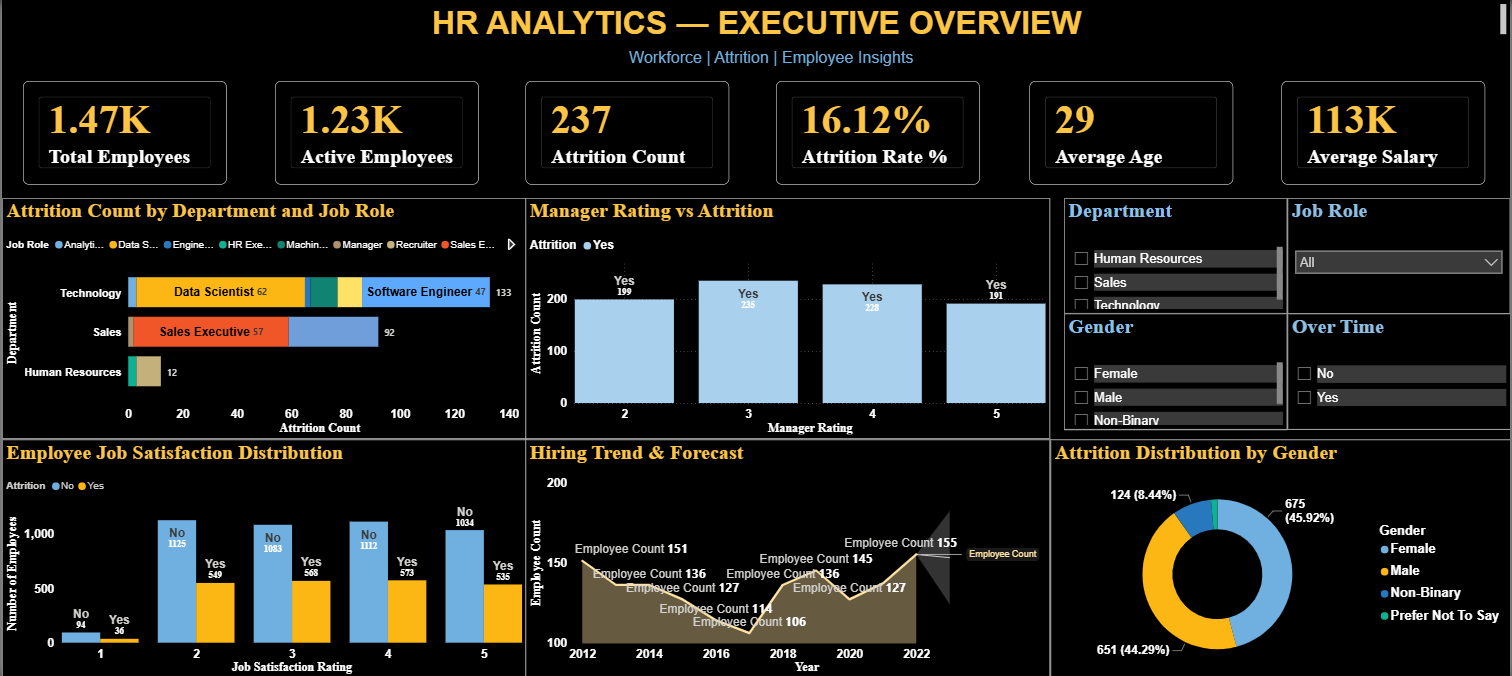

The dashboard page shown, as its layout file describes it:
{"tool":"powerbi","page":{"name":"HR Executive Overview","canvas":[2000,900],"ordinal":0},"visuals":[{"type":"textbox","box":[0,0,1999.2,54.4],"z":0},{"type":"textbox","box":[0,54.4,1999.2,52.1],"z":1000},{"type":"cardVisual","fields":{"Data":["DimDate.Total Employees"]},"box":[28.2,106.9,270,137.2],"z":2000},{"type":"cardVisual","fields":{"Data":["Employee.Active Employees"]},"box":[361.1,106.9,270,137.2],"z":3000},{"type":"cardVisual","fields":{"Data":["Employee.Attrition Count"]},"box":[694,106.9,270,137.2],"z":4000},{"type":"cardVisual","fields":{"Data":["Employee.Attrition Rate %"]},"box":[1026.9,106.9,270,137.2],"z":5000},{"type":"cardVisual","fields":{"Data":["Employee.Average Age"]},"box":[1361.8,106.9,270,137.2],"z":6000},{"type":"cardVisual","fields":{"Data":["Employee.Average Salary"]},"box":[1696.7,106.9,270,137.2],"z":7000},{"type":"barChart","fields":{"Category":["Employee.Department"],"Y":["Employee.Attrition Count"],"Series":["Employee.Job Role"]},"box":[0,262.6,695.6,319.4],"z":8000},{"type":"clusteredColumnChart","title":"Employee Job Satisfaction Distribution","fields":{"Series":["Employee.Attrition"],"Y":["CountNonNull(PerformanceRating.EmployeeID)"],"Category":["PerformanceRating.JobSatisfaction"]},"box":[0,582,695.6,317],"z":9000},{"type":"clusteredColumnChart","title":"Manager Rating vs Attrition","fields":{"Category":["PerformanceRating.ManagerRating"],"Y":["Employee.Attrition by Manager Rating"],"Series":["Employee.Attrition"]},"box":[693.2,262.6,695.6,319.4],"z":10000},{"type":"lineChart","title":"Hiring Trend & Forecast","fields":{"Category":["Employee.Hire Date.Variation.Date Hierarchy.Year","Employee.Hire Date.Variation.Date Hierarchy.Month"],"Y":["Employee.Employee Count"]},"box":[693.2,582,695,317],"z":11000},{"type":"donutChart","title":"Attrition Distribution by Gender","fields":{"Category":["Employee.Gender"],"Y":["CountNonNull(Employee.EmployeeID)"]},"box":[1388.8,582,610.4,317],"z":12000},{"type":"slicer","title":"Department","fields":{"Values":["Employee.Department"]},"box":[1407.7,262.6,295.7,153],"z":13000},{"type":"slicer","title":"Job Role","fields":{"Values":["Employee.Job Role"]},"box":[1703.5,262.6,295,153.8],"z":14000},{"type":"slicer","title":"Gender","fields":{"Values":["Employee.Gender"]},"box":[1407.7,416.4,295.7,153.8],"z":15000},{"type":"slicer","title":"Over Time","fields":{"Values":["Employee.Over Time"]},"box":[1703.5,416.4,295.7,153.8],"z":16000}]}

Visuals, with their boxes in screenshot pixels (x1, y1, x2, y2), scaled from the page's 2000x900 canvas onto the 1512x676 screenshot:
textbox: 0:0:1511:41
textbox: 0:41:1511:80
cardVisual - DimDate.Total Employees: 21:80:225:183
cardVisual - Employee.Active Employees: 273:80:477:183
cardVisual - Employee.Attrition Count: 525:80:729:183
cardVisual - Employee.Attrition Rate %: 776:80:980:183
cardVisual - Employee.Average Age: 1030:80:1234:183
cardVisual - Employee.Average Salary: 1283:80:1487:183
barChart - Employee.Department x Employee.Attrition Count: 0:197:526:437
"Employee Job Satisfaction Distribution" clusteredColumnChart: 0:437:526:675
"Manager Rating vs Attrition" clusteredColumnChart: 524:197:1050:437
"Hiring Trend & Forecast" lineChart: 524:437:1049:675
"Attrition Distribution by Gender" donutChart: 1050:437:1511:675
"Department" slicer: 1064:197:1288:312
"Job Role" slicer: 1288:197:1511:313
"Gender" slicer: 1064:313:1288:428
"Over Time" slicer: 1288:313:1511:428
